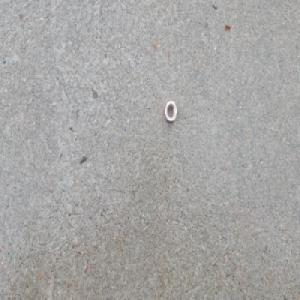Nut: (164, 100, 177, 123)
